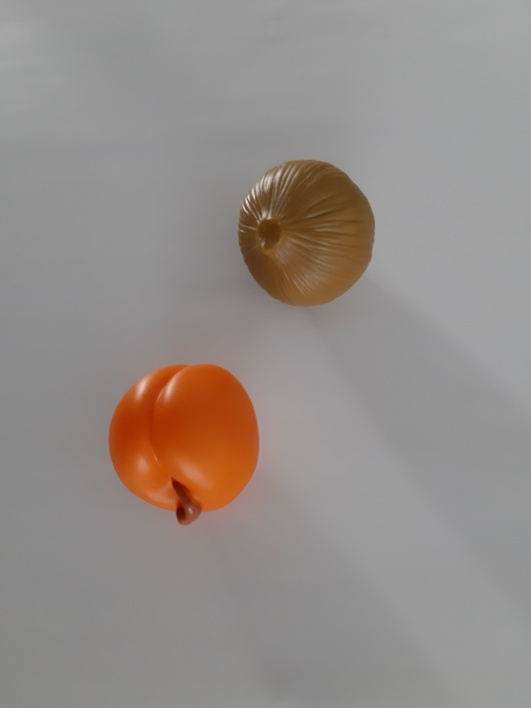apricot: (96, 348, 285, 548)
onion: (229, 147, 389, 327)
